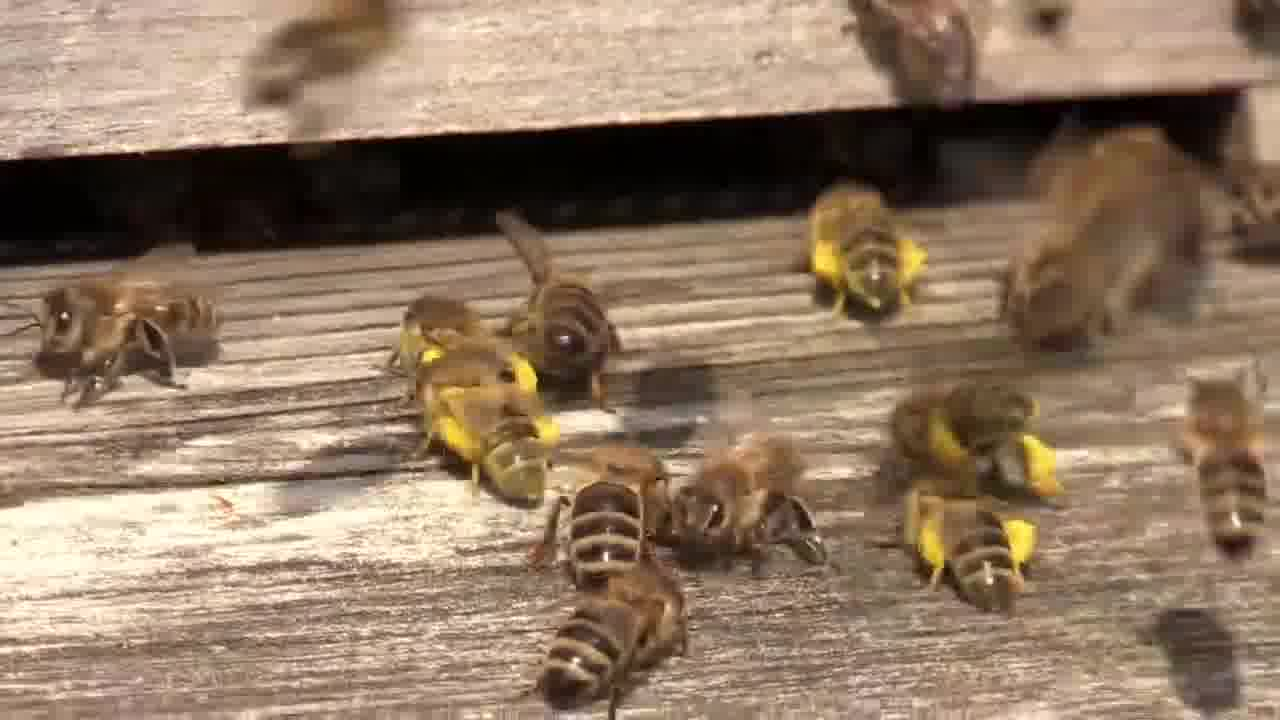pollen: (413, 346, 565, 505), (882, 478, 1051, 615), (805, 172, 934, 335), (929, 370, 1068, 503)
